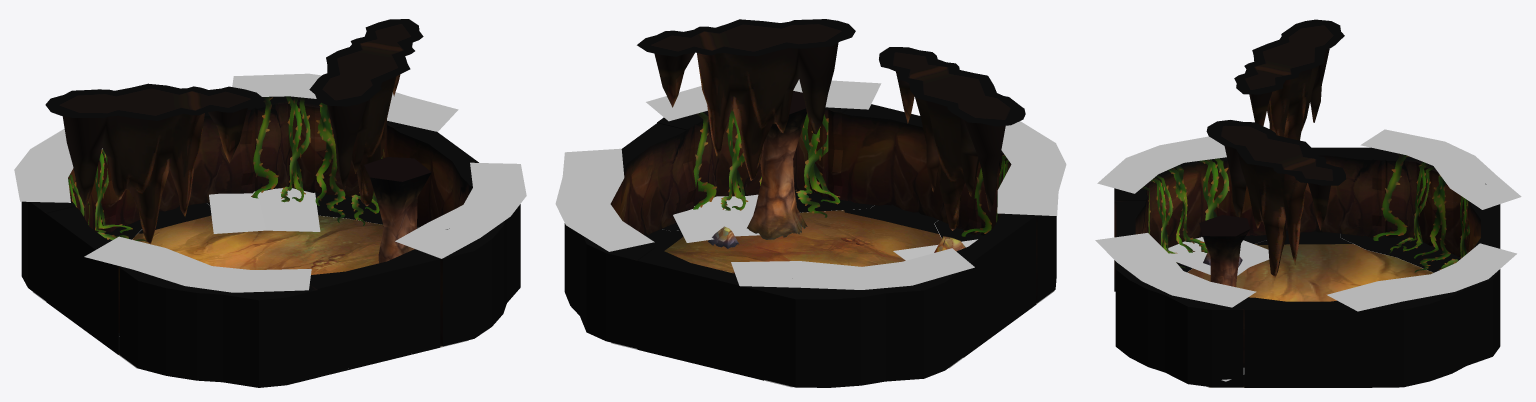
Rendered from Dungeon_021_SpecialRoom_001.fbx.
3 views of the same model, side by side, from view 1: azimuth 30°, elevation 25°; view 2: azimuth 150°, elevation 25°; view 3: azimuth 270°, elevation 25° (orthographic). The views are drawn at different scales.
Parts seen in each view (by area): view 1: Dun_011_Door_002 (×7), Dun_011_StartRoom_001_wall, Dungeon_021_Tsuta_002, Dungeon_011_Iwa004_1, Dungeon_011_Iwa004_1 (1), Dun_011_StartRoom_001_ground, Dungeon_021_Tsuta_001, Dungeon_021_Tsuta_003, Dungeon_011_Object_010, Dun_011_StartRoom_001_shadow, Dun_011_Door_002_shadow; view 2: Dun_011_Door_002 (×8), Dun_011_StartRoom_001_wall, Dungeon_021_Tsuta_002, Dungeon_011_Iwa004_1 (1), Dungeon_011_Iwa004_1, Dun_011_StartRoom_001_ground, Dungeon_011_Object_010, Dungeon_021_Tsuta_001, Dungeon_021_Tsuta_003, Dun_011_Door_002_shadow (×2), Dun_011_StartRoom_001_shadow; view 3: Dun_011_StartRoom_001_wall, Dun_011_Door_002 (×6), Dungeon_021_Tsuta_002, Dungeon_011_Iwa004_1 (1), Dungeon_011_Iwa004_1, Dun_011_StartRoom_001_ground, Dungeon_021_Tsuta_001, Dungeon_011_Object_010, Dun_011_StartRoom_001_shadow, Dungeon_021_Tsuta_003, Dun_011_Door_002_shadow.
Boxes of the visible parts, left/top/right/bottom form: Dun_011_Door_002 (×7): left=31, top=101, right=478, bottom=377; Dun_011_StartRoom_001_wall: left=21, top=96, right=520, bottom=387; Dungeon_021_Tsuta_002: left=14, top=73, right=526, bottom=292; Dungeon_011_Iwa004_1: left=45, top=83, right=264, bottom=244; Dungeon_011_Iwa004_1 (1): left=309, top=19, right=423, bottom=205; Dun_011_StartRoom_001_ground: left=118, top=215, right=442, bottom=354; Dungeon_021_Tsuta_001: left=68, top=96, right=449, bottom=241; Dungeon_021_Tsuta_003: left=209, top=188, right=320, bottom=233; Dungeon_011_Object_010: left=364, top=157, right=431, bottom=263; Dun_011_StartRoom_001_shadow: left=97, top=192, right=442, bottom=376; Dun_011_Door_002_shadow: left=138, top=203, right=211, bottom=233; Dun_011_Door_002 (×8): left=610, top=104, right=1036, bottom=380; Dun_011_StartRoom_001_wall: left=564, top=109, right=1056, bottom=387; Dungeon_021_Tsuta_002: left=555, top=80, right=1066, bottom=289; Dungeon_011_Iwa004_1 (1): left=637, top=19, right=855, bottom=180; Dungeon_011_Iwa004_1: left=879, top=47, right=1025, bottom=230; Dun_011_StartRoom_001_ground: left=664, top=189, right=1036, bottom=303; Dungeon_011_Object_010: left=747, top=91, right=807, bottom=239; Dungeon_021_Tsuta_001: left=693, top=108, right=1009, bottom=236; Dungeon_021_Tsuta_003: left=673, top=194, right=977, bottom=260; Dun_011_Door_002_shadow (×2): left=646, top=204, right=938, bottom=250; Dun_011_StartRoom_001_shadow: left=662, top=190, right=1036, bottom=302; Dun_011_StartRoom_001_wall: left=1114, top=154, right=1500, bottom=387; Dun_011_Door_002 (×6): left=1116, top=147, right=1500, bottom=387; Dungeon_021_Tsuta_002: left=1095, top=129, right=1521, bottom=311; Dungeon_011_Iwa004_1 (1): left=1206, top=120, right=1346, bottom=277; Dungeon_011_Iwa004_1: left=1234, top=19, right=1344, bottom=140; Dun_011_StartRoom_001_ground: left=1187, top=244, right=1433, bottom=387; Dungeon_021_Tsuta_001: left=1141, top=154, right=1486, bottom=272; Dungeon_011_Object_010: left=1199, top=215, right=1250, bottom=287; Dun_011_StartRoom_001_shadow: left=1114, top=233, right=1460, bottom=385; Dungeon_021_Tsuta_003: left=1168, top=237, right=1269, bottom=381; Dun_011_Door_002_shadow: left=1256, top=231, right=1352, bottom=244.
Size of what is drawn, in the model's own units: 10.62 by 5.02 by 10.
